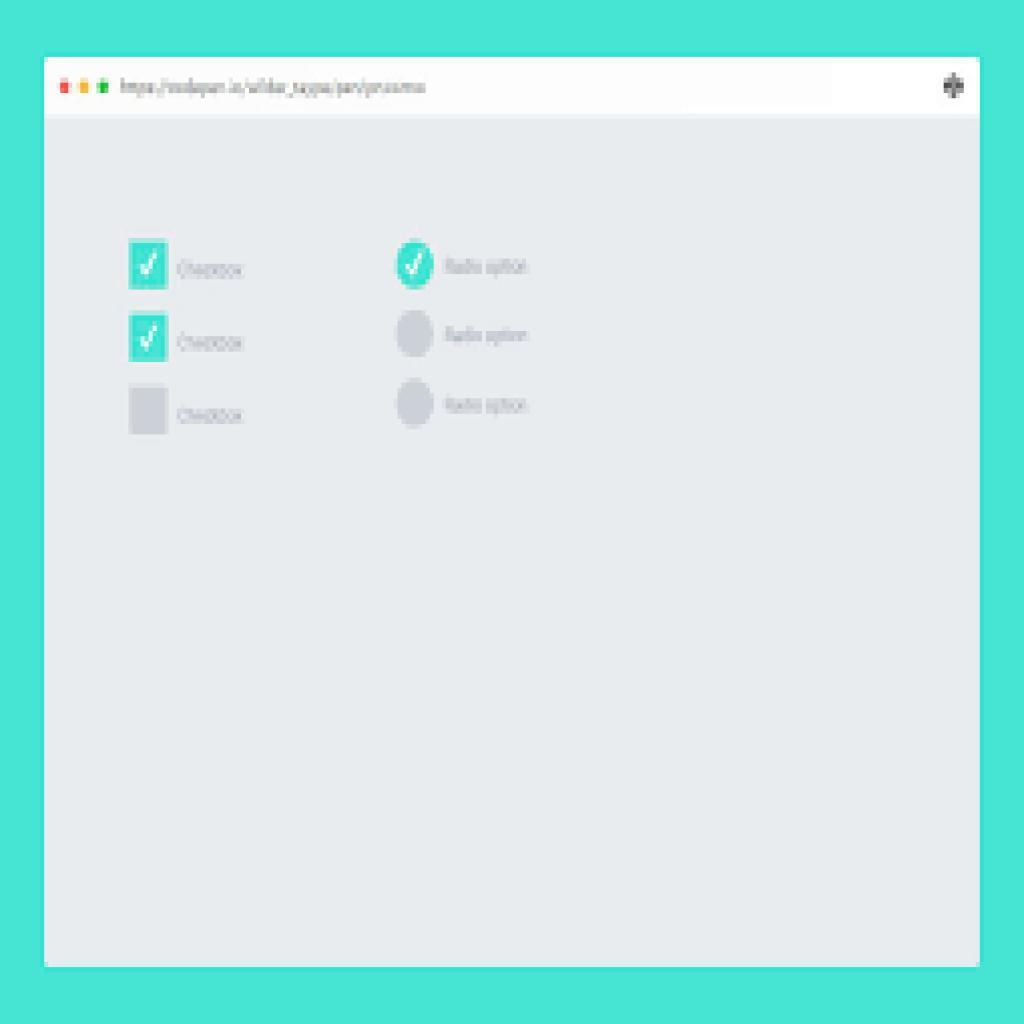checkbox: (128, 239, 169, 292), (132, 314, 171, 361), (130, 388, 169, 434)
radio: (395, 308, 439, 362), (397, 240, 438, 292), (397, 378, 435, 430)
